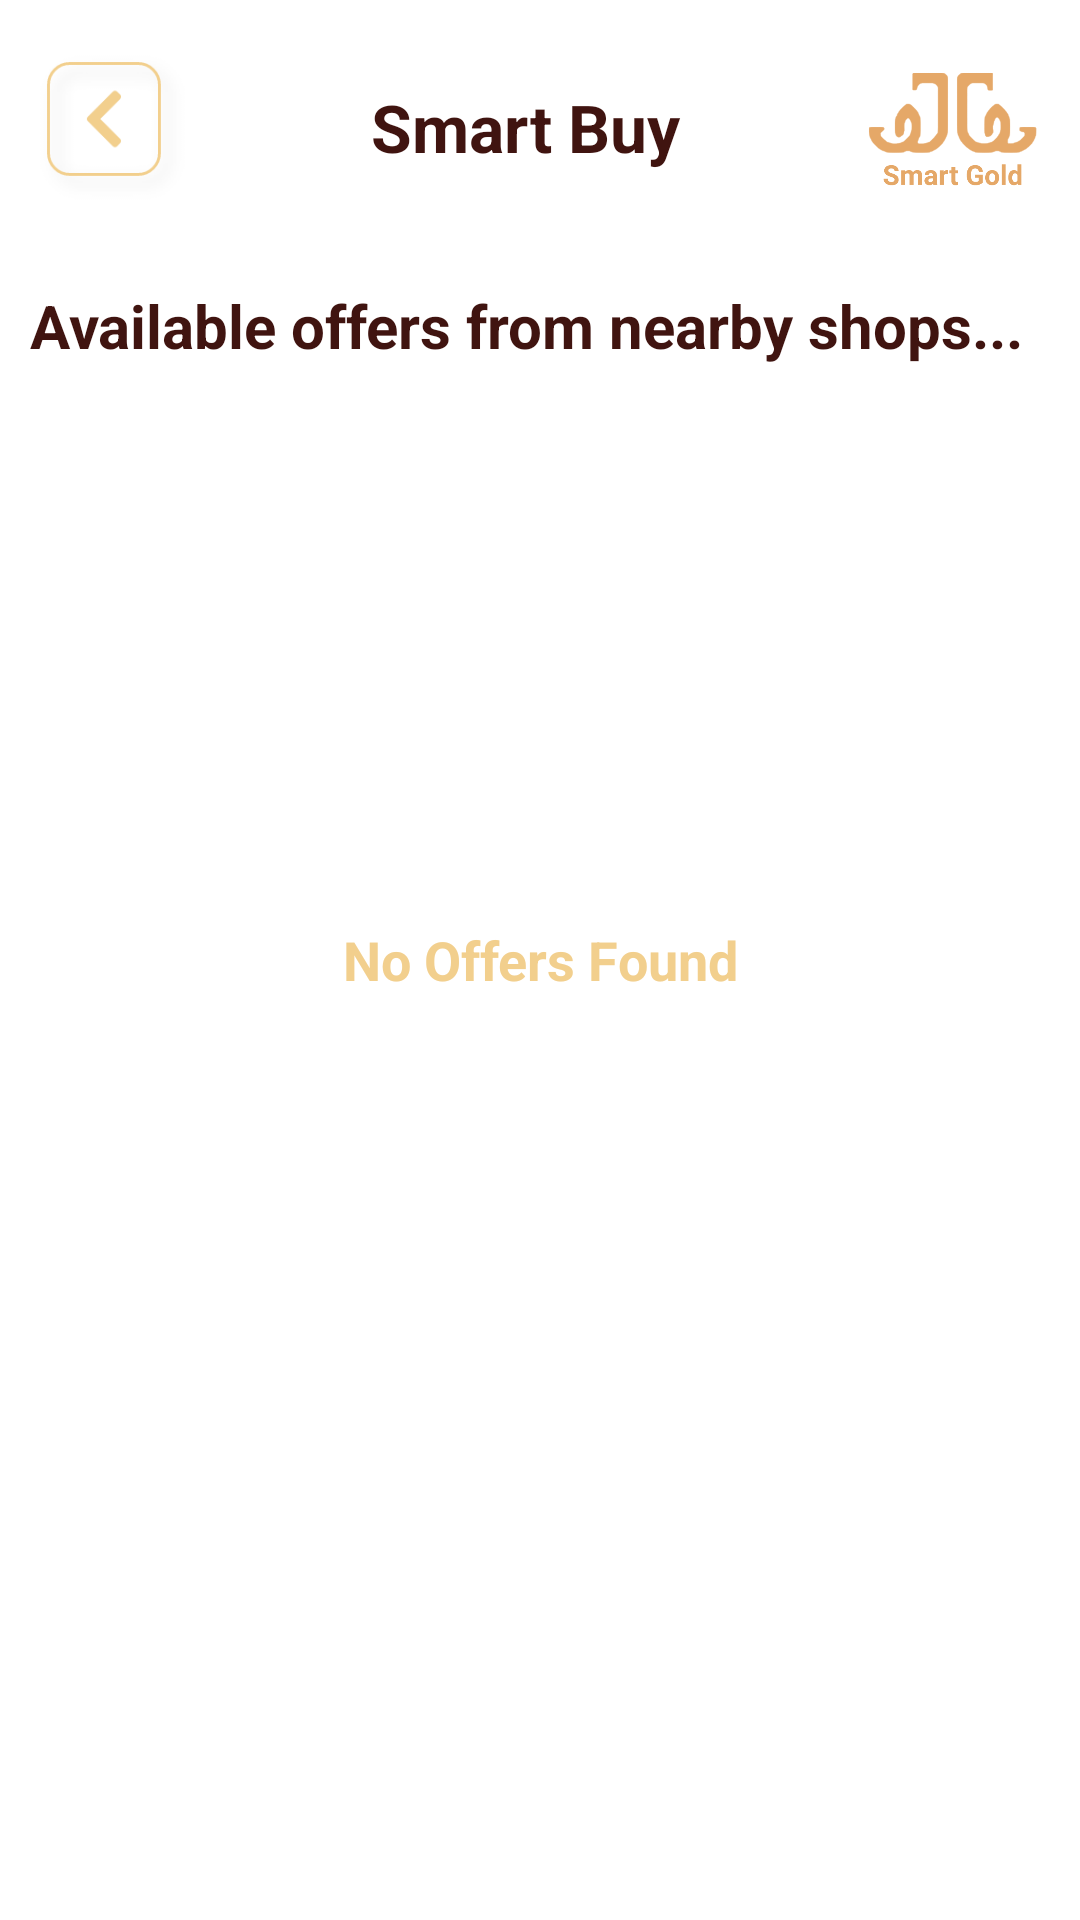

Icon bounding boxes for this 1080px×1920px phone screenshot, format [x1, y1, x2, y2]:
backbtn: [47, 62, 161, 176]
